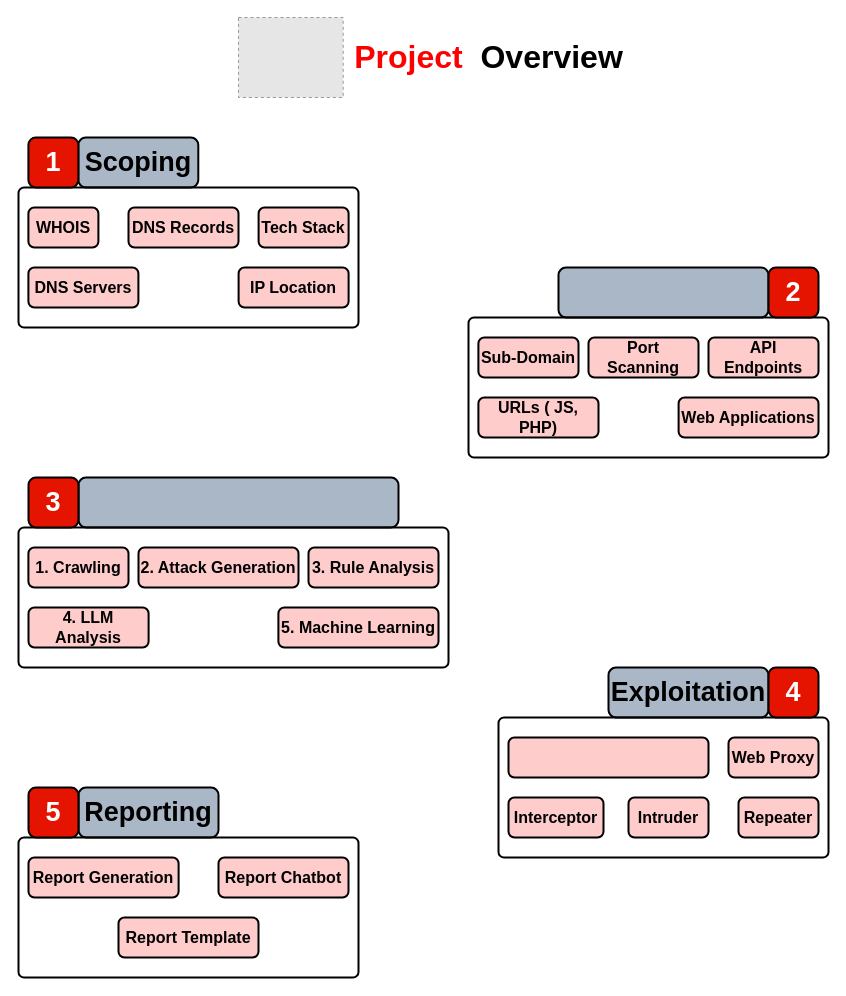
Image size: 846x996. Some labels were removed from this diagram. Grey dashed boxes stand in for pictures. Here are the shapes that lost their labels. From the top down, the centre of each, then its label:
point (663, 292): Reconnaisance
point (238, 502): AI Vulnerability Analysis
point (608, 757): Docker Pentest Container
